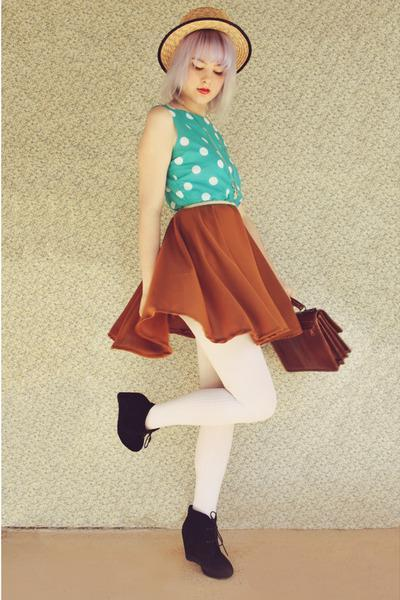skirt: (106, 204, 306, 360)
vest: (155, 105, 248, 210)
